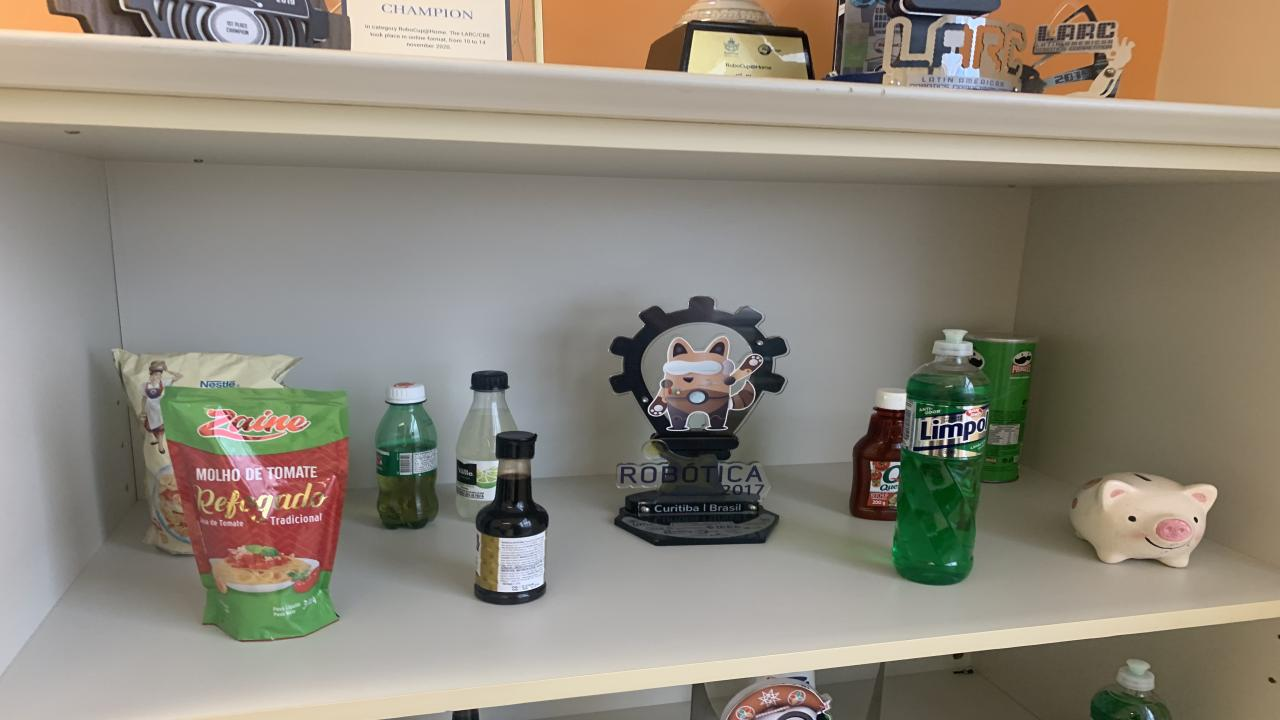Detergent-Cleanup_Items: (892, 330, 990, 585), (1090, 660, 1172, 720)
English_Sauce-Pantry_Items: (475, 431, 548, 604)
Flakes-Snacks: (112, 349, 300, 555)
Guarana-Drinks: (375, 382, 438, 529)
Ketchup-Pantry_Items: (850, 388, 908, 521)
Pig_Safe-Miscellaneous: (1070, 472, 1218, 568)
Pringles-Snacks: (968, 332, 1038, 482)
Soda-Drinks: (455, 371, 518, 519)
Tomato_Sauce-Pantry_Items: (162, 388, 350, 641)
Trophy-Miscellaneous: (610, 296, 788, 546)
